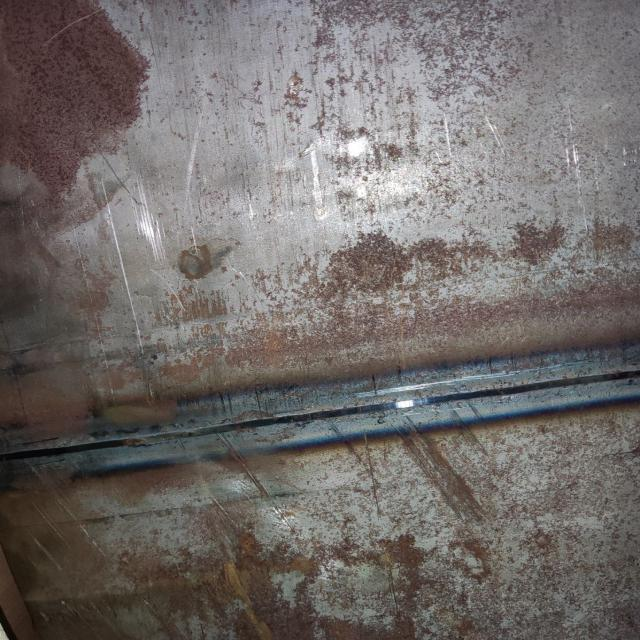seam: (0, 323, 639, 510)
